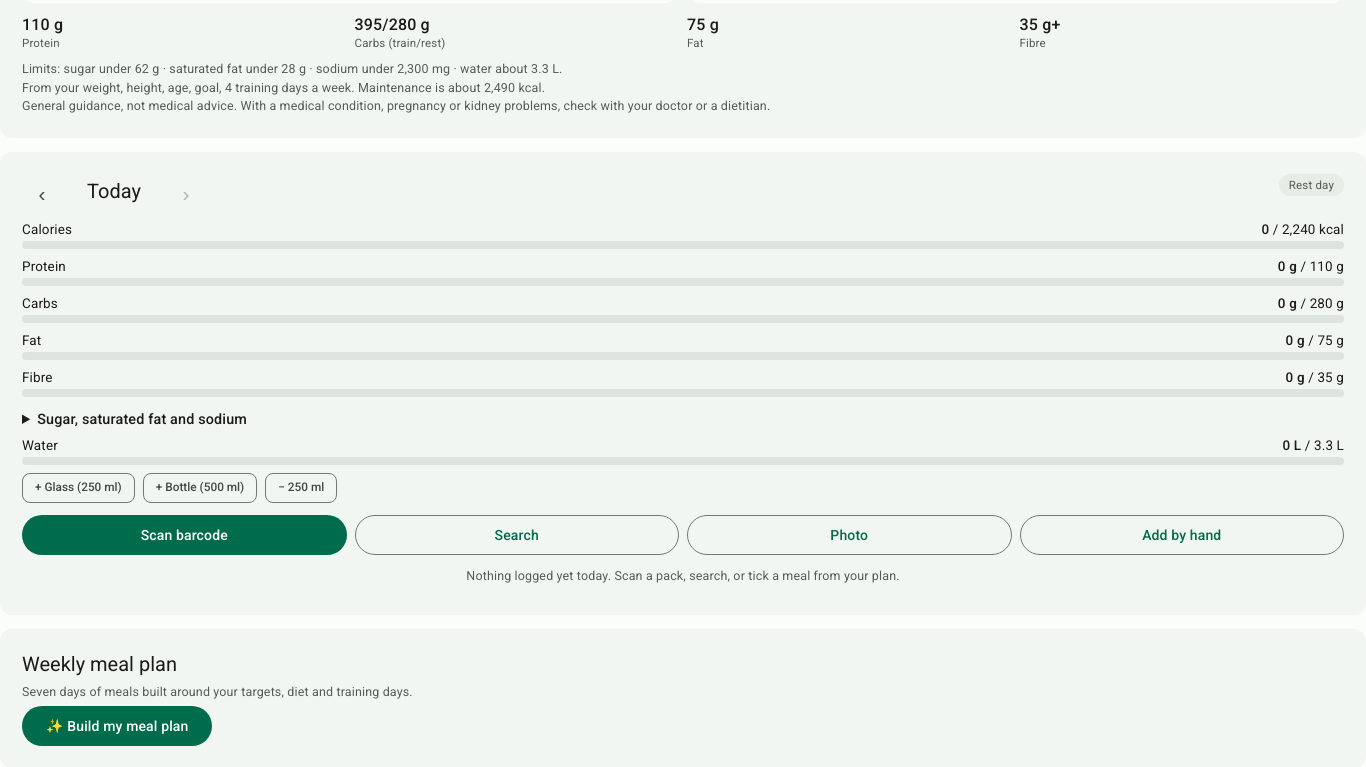
Test: Nutrition screen › builds the weekly plan and logs a meal from it
Later steps or results of the test are not shown.
(page scrolled)
Click the button "✨ Build my meal plan".
click(117, 726)  # box left=22, top=706, right=212, bottom=746
(page scrolled)
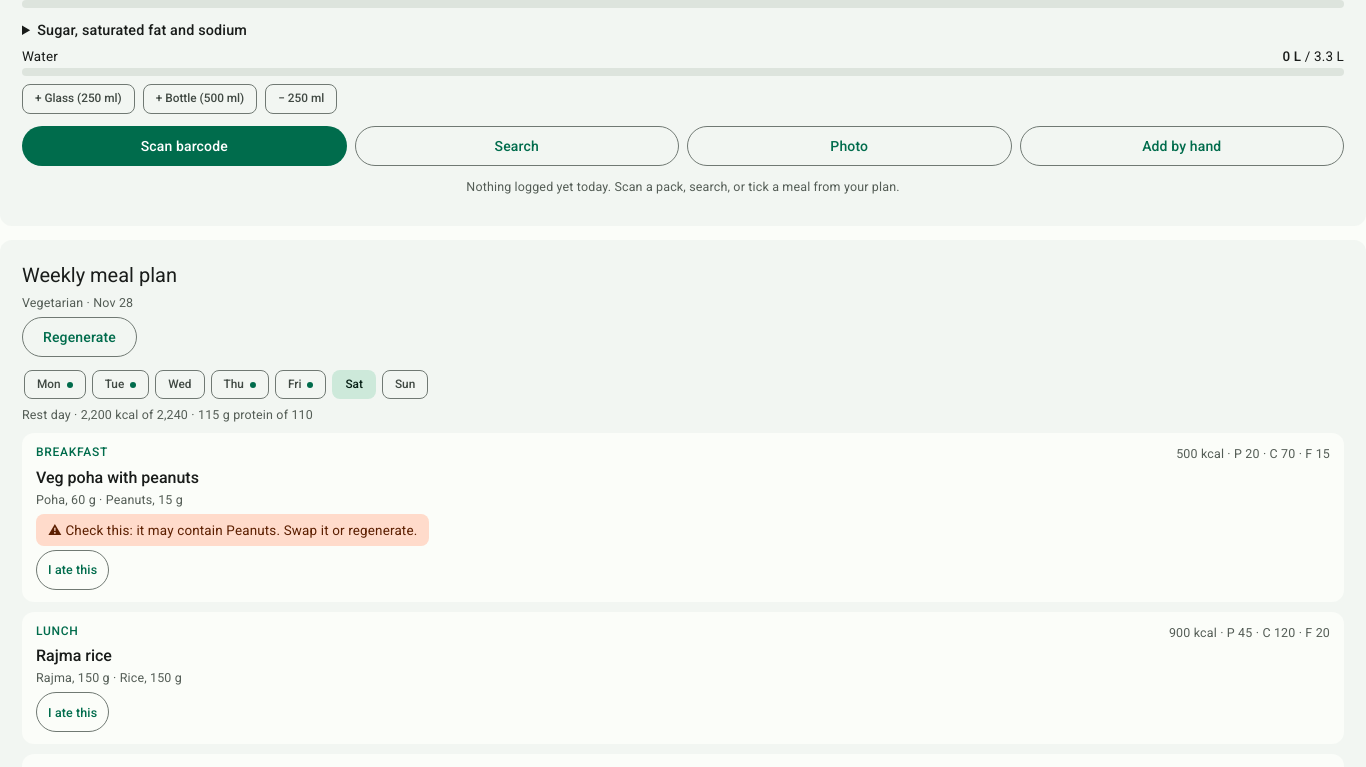
Click the tab "Mon".
click(55, 385)  # box left=24, top=370, right=86, bottom=399
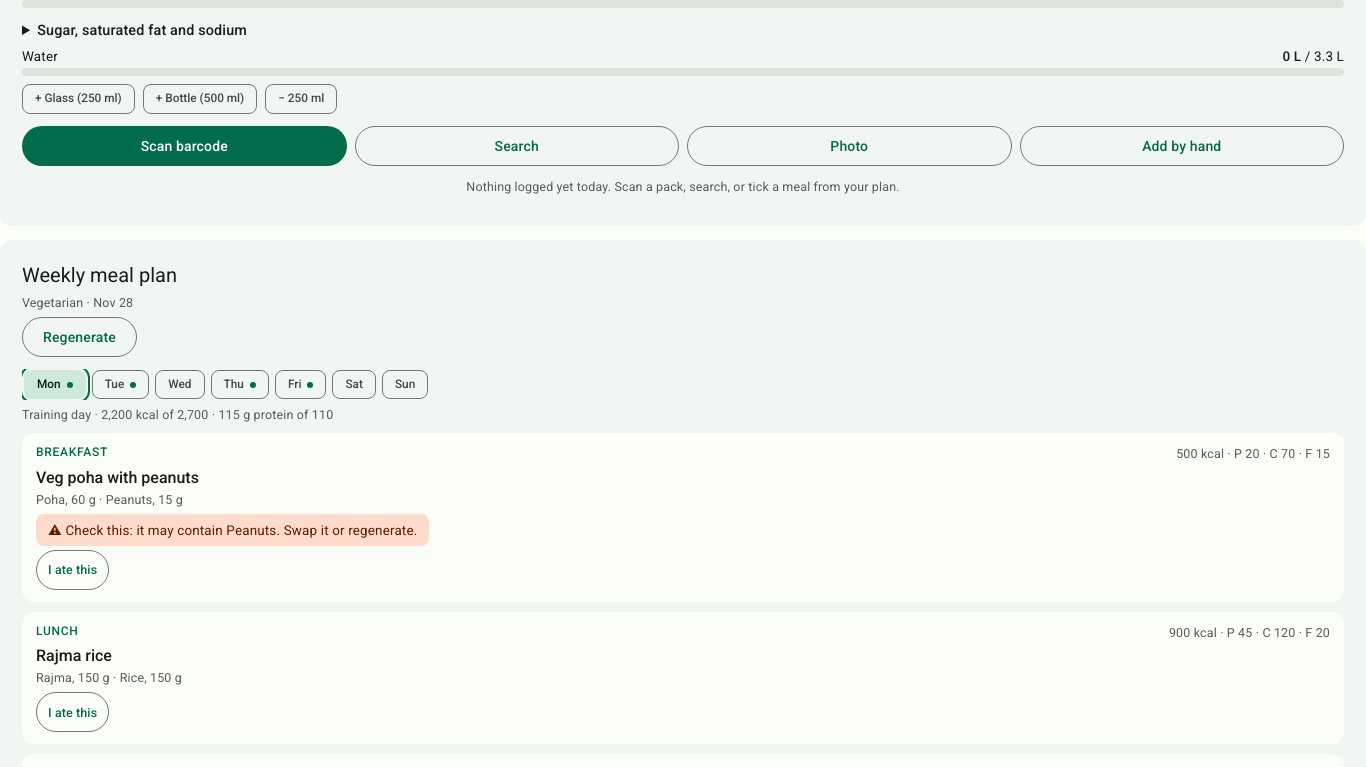
Now the heading "Veg poha with peanuts" is shown, box left=36, top=468, right=199, bottom=487
Now the text "⚠ Check this: it may contain Peanuts. Swap it or regenerate." is shown, box left=36, top=514, right=429, bottom=546
